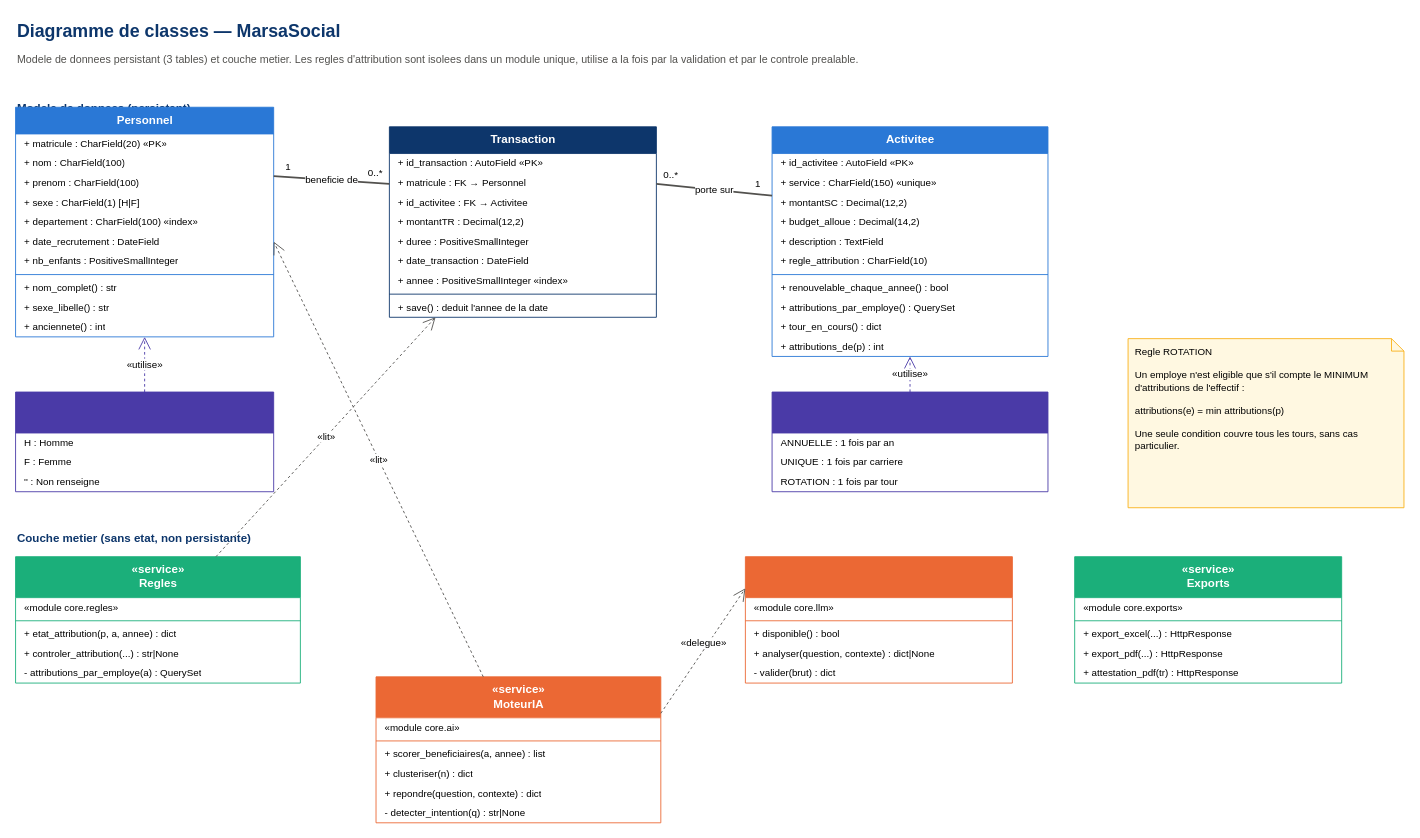
Some shapes in this 1420 by 838 pixel diagram are drawn without their labels. Here are the shapes that lost their labels. From the top down, the box of each, then its label:
(15, 391, 274, 492): «enumeration» Sexe
(771, 391, 1048, 492): «enumeration» RegleAttribution
(744, 556, 1012, 683): «service» RenfortLLM
